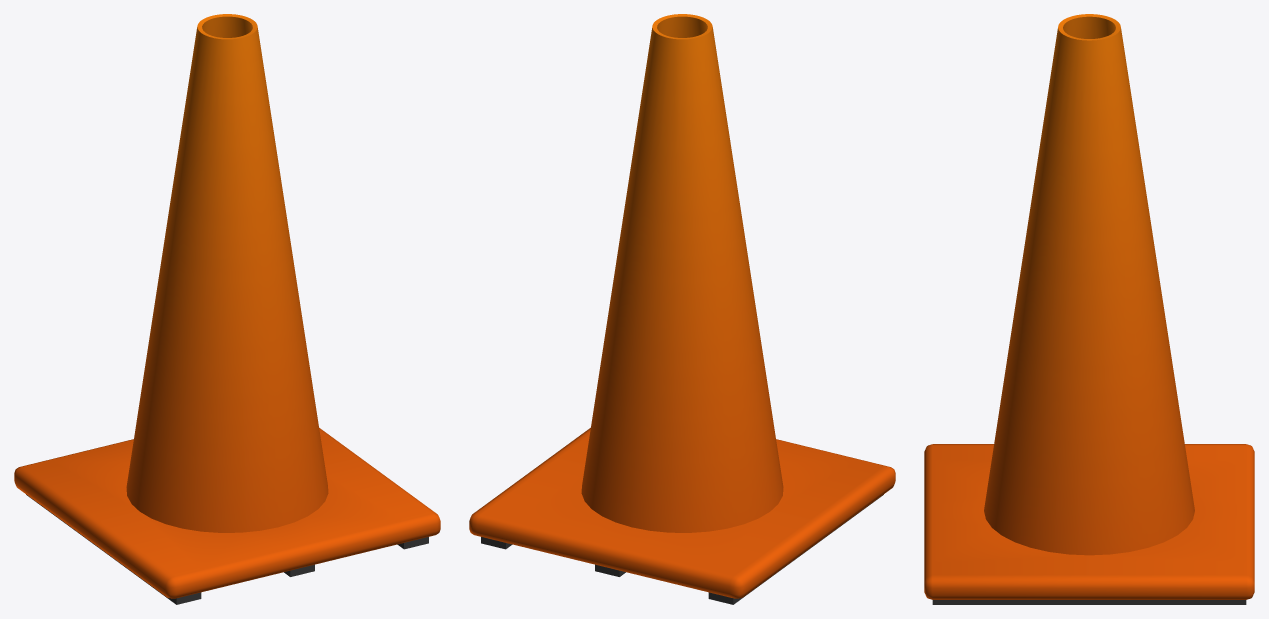
The model's file is cone_small.glb.
3 renders of one model, left to right at view 1: azimuth 30°, elevation 25°; view 2: azimuth 150°, elevation 25°; view 3: azimuth 270°, elevation 25°, orthographic. The views are drawn at different scales.
Visible parts, largest first — view 1: cone_small; view 2: cone_small; view 3: cone_small.
Part boxes in pixels (bbox=[...]): cone_small: bbox=[14, 14, 440, 604]; cone_small: bbox=[469, 14, 895, 604]; cone_small: bbox=[924, 14, 1254, 604].
Bounding box in the file's own units: 0.2667 × 0.4572 × 0.2667.
1 material, 1 textured.
